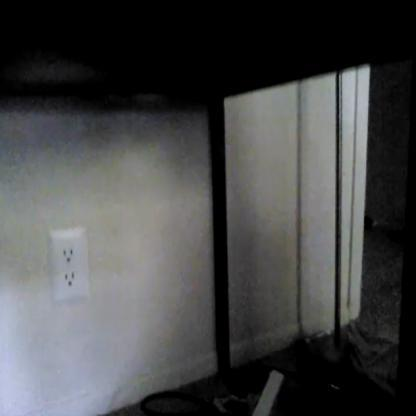OUTLET: (51, 230, 89, 304)
